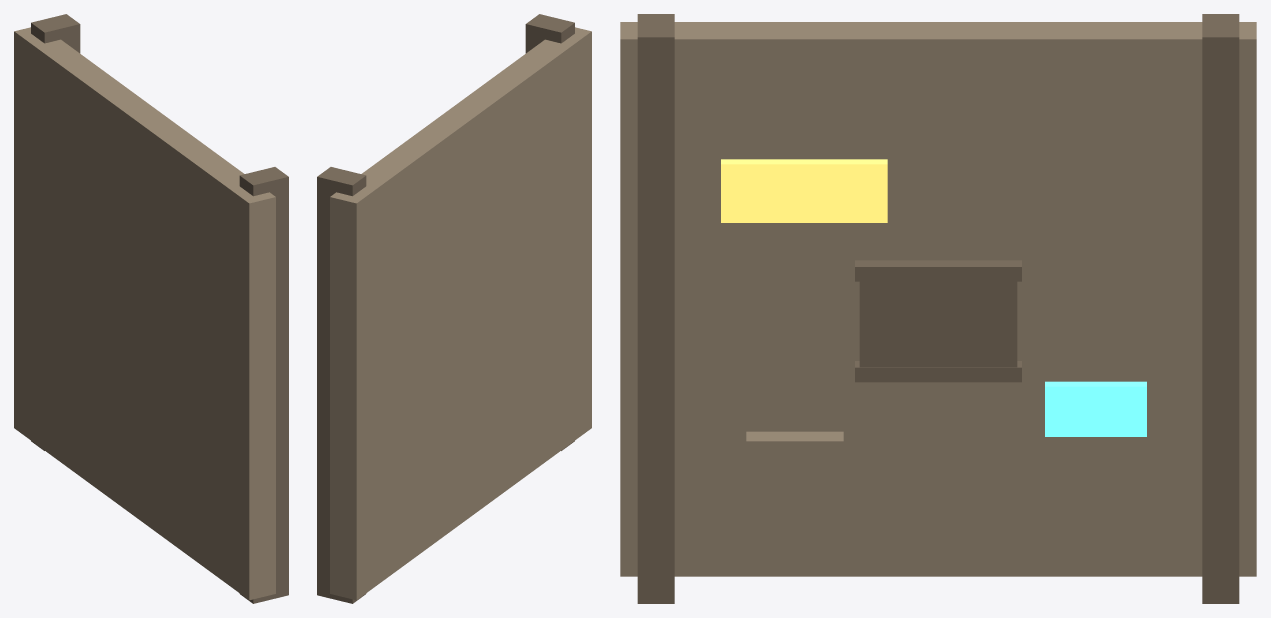
The model's file is refinery-wall-service-panel-lod1.glb.
3 renders of one model, left to right at view 1: azimuth 30°, elevation 25°; view 2: azimuth 150°, elevation 25°; view 3: azimuth 270°, elevation 25°, orthographic. The views are drawn at different scales.
Visible parts, largest first — view 1: refinery-wall-service-panel-shell, refinery-wall-service-panel-frame-right, refinery-wall-service-panel-frame-left; view 2: refinery-wall-service-panel-shell, refinery-wall-service-panel-frame-left, refinery-wall-service-panel-frame-right; view 3: refinery-wall-service-panel-shell, refinery-wall-service-panel-frame-left, refinery-wall-service-panel-frame-right, refinery-wall-service-panel-vent, refinery-wall-service-panel-signage, refinery-wall-service-panel-junction, refinery-wall-service-panel-status, refinery-wall-service-panel-vent-upper, refinery-wall-service-panel-vent-lower.
Part boxes in pixels (x1,y1,x2,y2): refinery-wall-service-panel-shell: [14, 27, 275, 600]; refinery-wall-service-panel-frame-right: [239, 167, 288, 603]; refinery-wall-service-panel-frame-left: [31, 14, 80, 450]; refinery-wall-service-panel-shell: [330, 27, 591, 600]; refinery-wall-service-panel-frame-left: [317, 167, 366, 603]; refinery-wall-service-panel-frame-right: [525, 14, 574, 450]; refinery-wall-service-panel-shell: [620, 22, 1256, 576]; refinery-wall-service-panel-frame-left: [1202, 14, 1239, 603]; refinery-wall-service-panel-frame-right: [637, 14, 674, 603]; refinery-wall-service-panel-vent: [859, 281, 1017, 367]; refinery-wall-service-panel-signage: [721, 159, 887, 222]; refinery-wall-service-panel-junction: [746, 431, 843, 516]; refinery-wall-service-panel-status: [1045, 381, 1146, 436]; refinery-wall-service-panel-vent-upper: [855, 260, 1021, 281]; refinery-wall-service-panel-vent-lower: [855, 361, 1021, 382].
Size of the model in its own units: 0.31 by 2.7 by 2.75.
